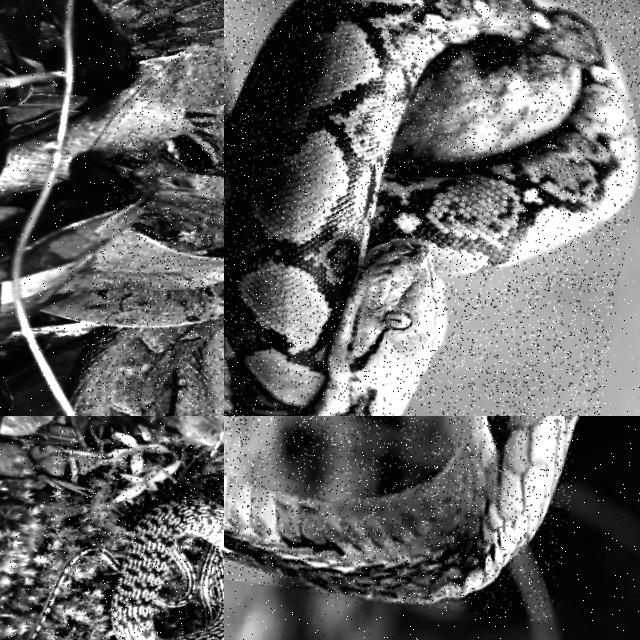Calloselasma rhodostoma: (74, 321, 223, 415)
Chrysopelea ornata: (55, 499, 223, 639)
Malayopython reticulatus: (224, 0, 636, 415)
Naja kaouthia: (224, 416, 576, 603)
snake: (224, 0, 636, 415), (224, 416, 576, 603), (55, 499, 223, 639), (74, 321, 223, 415)
